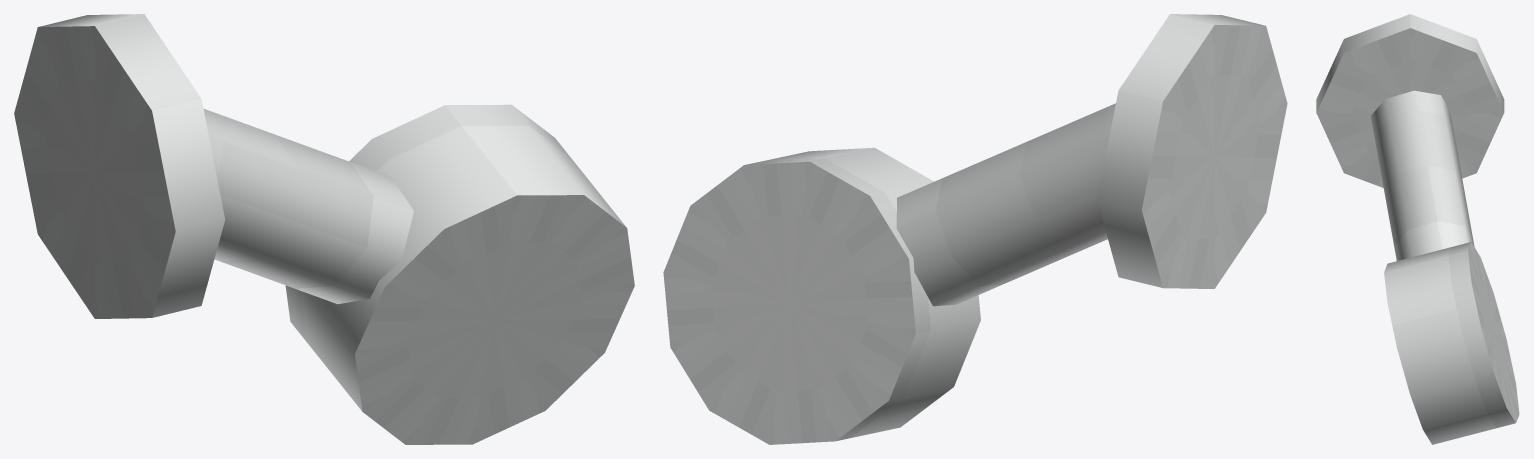
Rendered from trusssignalarm_stub_54.obj.
The picture shows the model from 3 angles, left to right: view 1: azimuth 30°, elevation 25°; view 2: azimuth 150°, elevation 25°; view 3: azimuth 270°, elevation 25°; orthographic projection. The views are drawn at different scales.
Parts seen in each view (by area): view 1: trusssignalarm_stub_54; view 2: trusssignalarm_stub_54; view 3: trusssignalarm_stub_54.
Part boxes in pixels (bbox=[...]): trusssignalarm_stub_54: bbox=[14, 14, 634, 444]; trusssignalarm_stub_54: bbox=[663, 14, 1287, 444]; trusssignalarm_stub_54: bbox=[1316, 14, 1519, 444].
Size of the model in its own units: 0.6744 by 0.6354 by 0.3786.
